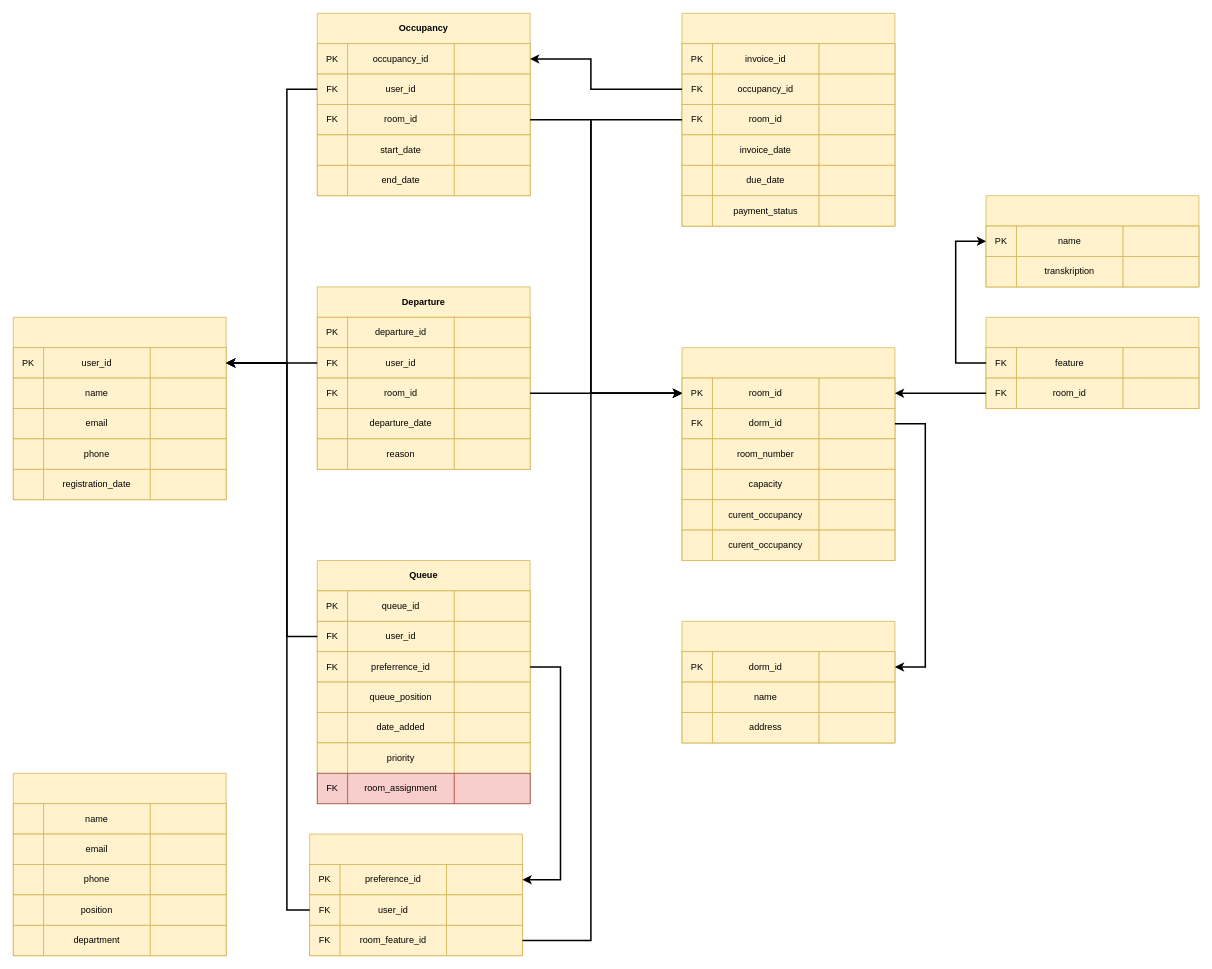
The diagram is 1212 pixels wide and 969 high, and some of its shapes have lost their labels. The shapes that lost their labels are listed below. From the top down, each one's box as (x1, y1, x2, y2) in pixels, then its label:
(681, 13, 895, 226): Invoices
(985, 195, 1199, 287): Features
(985, 317, 1199, 408): Room_Features
(13, 317, 226, 500): Users
(681, 347, 895, 560): Rooms
(681, 621, 895, 743): Dormitories
(13, 773, 226, 956): Contacts
(309, 833, 522, 956): Room_Preferences
